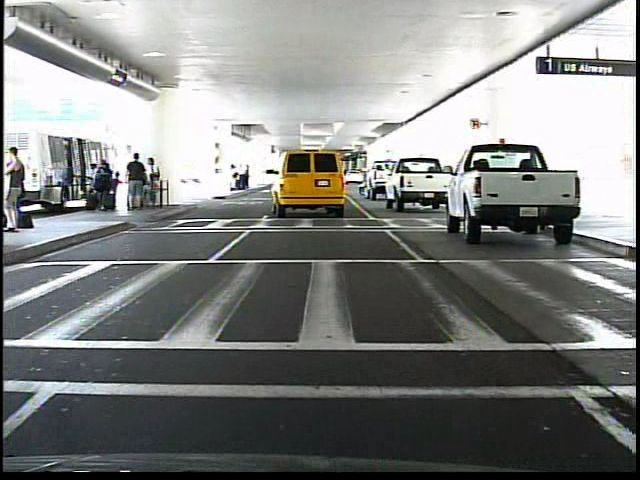person: (9, 144, 32, 231)
